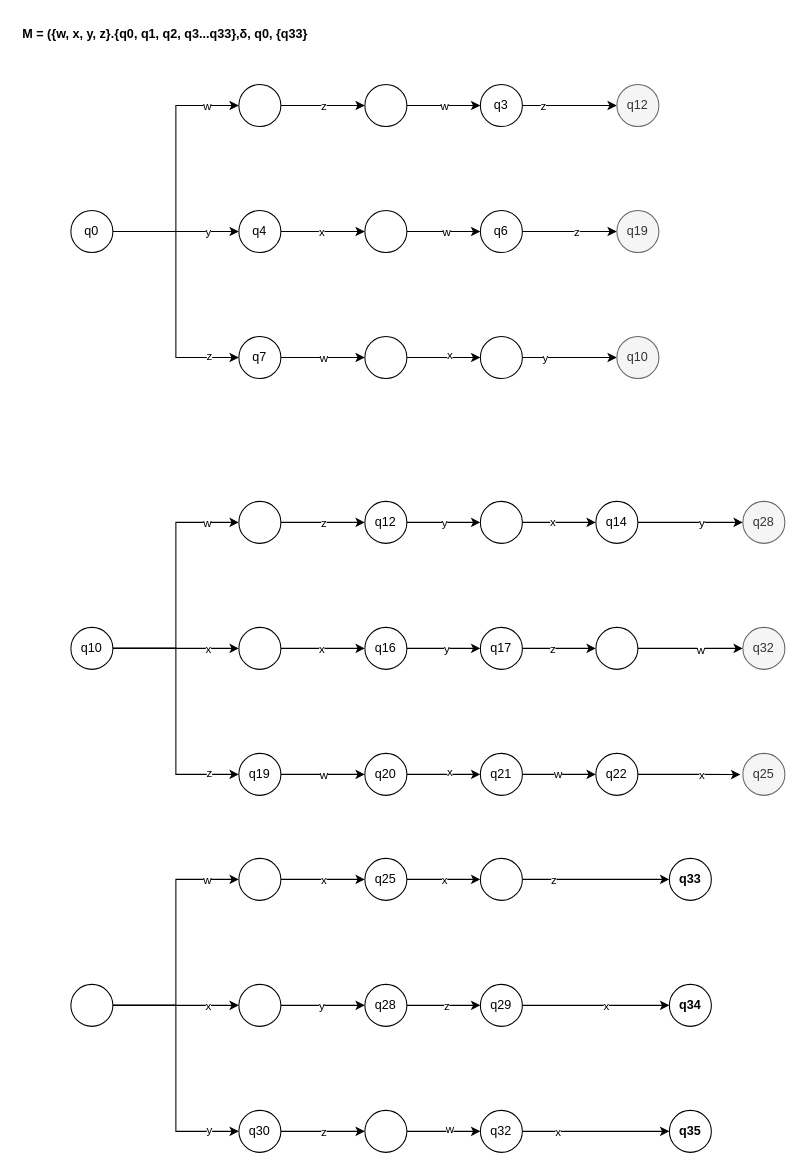
Image size: 803x1171. Some labels were removed from this diagram. Here are the shapes that lost their labels. From the top down, the centre of each, then its label:
At point (259, 105): "q1".
At point (385, 105): "q2".
At point (385, 231): "q5".
At point (385, 357): "q8".
At point (500, 357): "q9".
At point (259, 521): "q11".
At point (500, 521): "q13".
At point (259, 647): "q15".
At point (616, 647): "q18".
At point (259, 878): "q24".
At point (500, 878): "q26".
At point (91, 1004): "q23".
At point (259, 1004): "q27".
At point (385, 1130): "q31".
